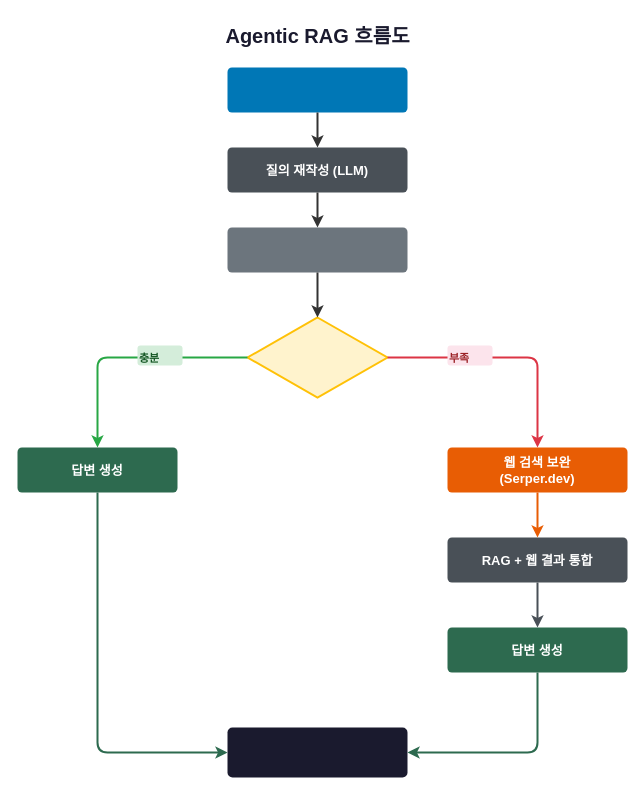
This 644x794 diagram has some shape labels left out. The centre of each missing label's shape, as x and y in pixels:
FAISS 검색 (상위 5개): point (317, 249)
관련성 판단 (LLM): point (317, 357)
섹션 결과물: point (317, 752)
에이전트 질의: point (317, 89)
